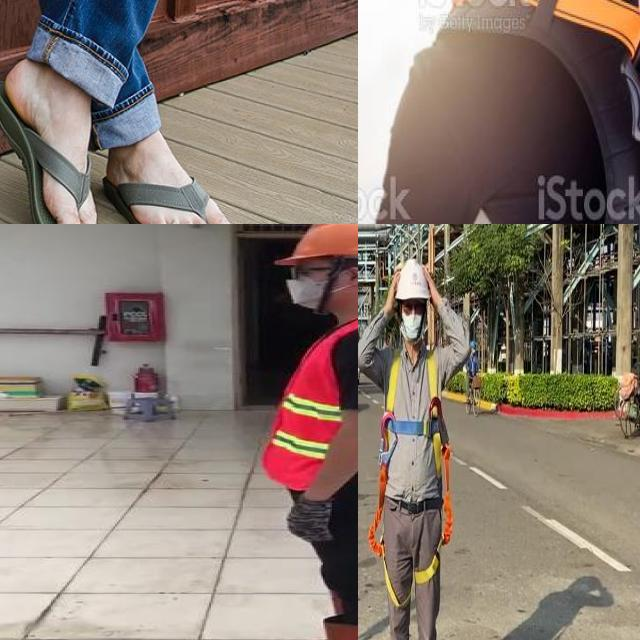Harness: (451, 0, 640, 224), (368, 351, 454, 608)
Sandals: (0, 58, 105, 224), (108, 119, 244, 224)
face_mask: (278, 258, 352, 312)
hand_glove: (288, 495, 334, 543)
head_helmet: (270, 224, 358, 263)
person: (243, 224, 358, 640)
vest: (266, 321, 358, 493)
